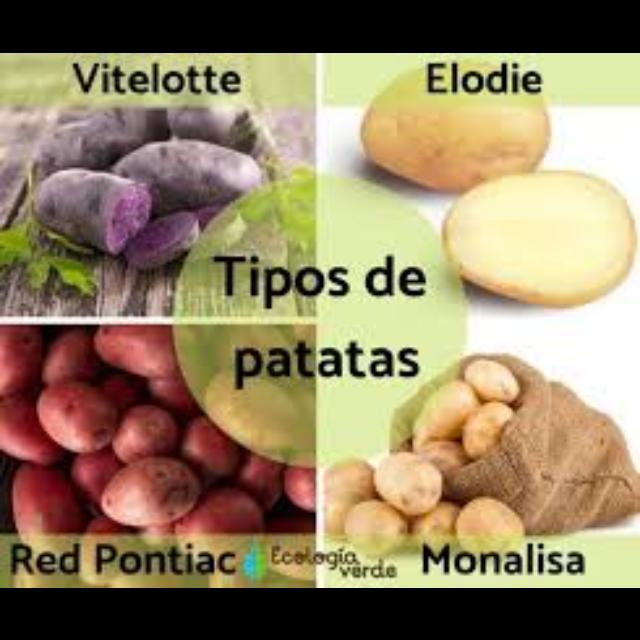Defected potato: (102, 458, 202, 522), (34, 385, 114, 455), (109, 405, 178, 465), (184, 414, 242, 481)
Potato: (363, 54, 555, 194)
